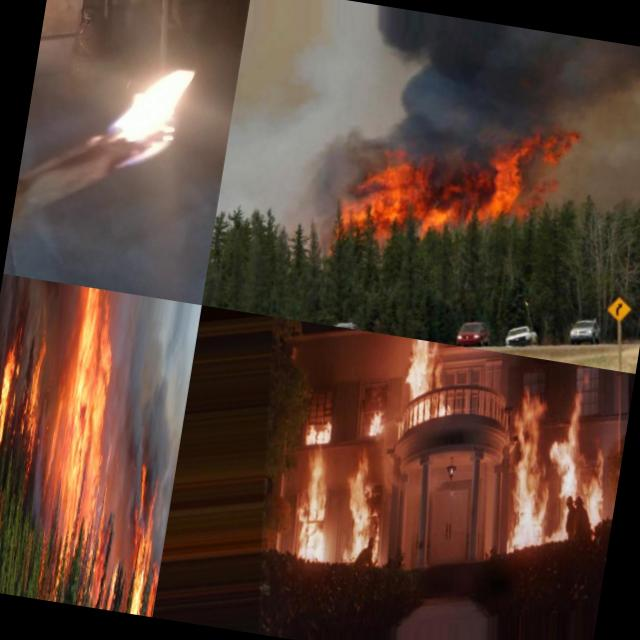fire: (30, 287, 138, 584), (334, 114, 534, 250), (493, 364, 628, 560), (80, 30, 202, 207), (396, 338, 464, 438), (334, 453, 391, 568), (284, 448, 341, 562), (122, 472, 164, 616), (18, 338, 50, 459), (0, 325, 21, 445), (296, 408, 342, 452), (5, 352, 24, 438), (365, 398, 391, 444), (106, 548, 122, 606), (144, 562, 160, 617)
smoke: (350, 3, 640, 165), (99, 294, 202, 498), (22, 396, 58, 534), (96, 502, 119, 574)
